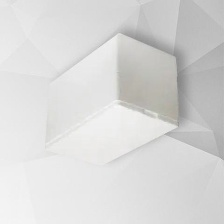foam_box: (41, 29, 186, 169)
